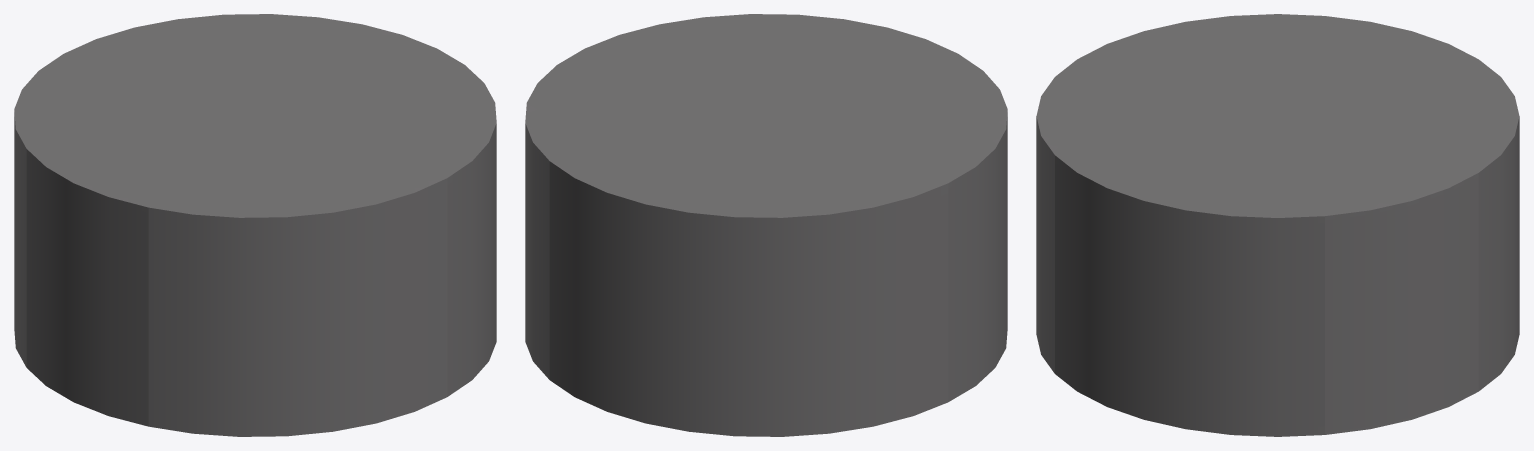
Rendered from wheel_1__tire.glb.
3 views of the same model, side by side, from view 1: azimuth 30°, elevation 25°; view 2: azimuth 150°, elevation 25°; view 3: azimuth 270°, elevation 25° (orthographic).
Visible parts, largest first — view 1: world; view 2: world; view 3: world.
Part boxes in pixels (x1=…): world: x1=14, y1=14, x2=496, y2=436; world: x1=525, y1=14, x2=1007, y2=436; world: x1=1036, y1=14, x2=1519, y2=436.
Size of the model in its own units: 0.048 by 0.024 by 0.048.
Materials: 1 (1 with a texture image).
